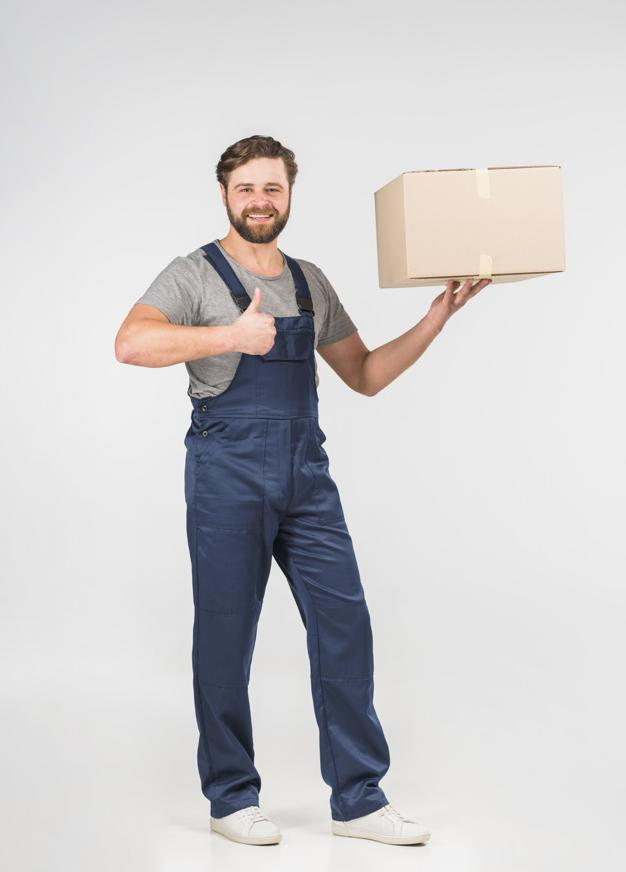thumbsup: (246, 287, 277, 355)
